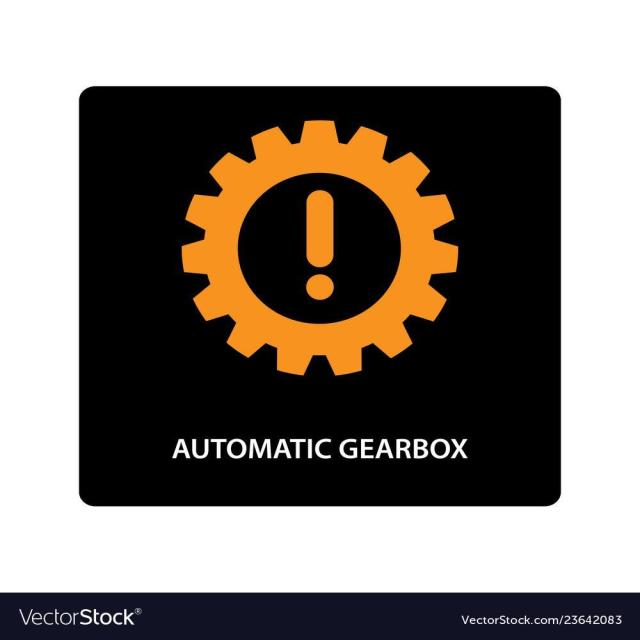kontrolka: (163, 111, 490, 394)
